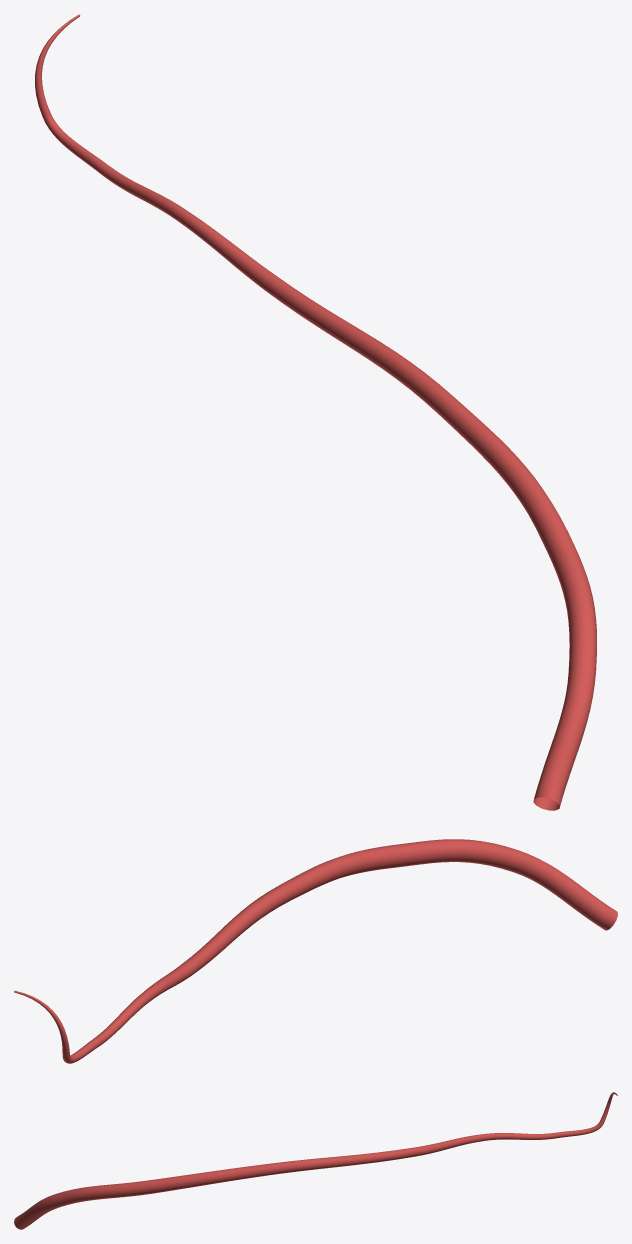
3 renders of one model, top to bottom at view 1: azimuth 30°, elevation 25°; view 2: azimuth 150°, elevation 25°; view 3: azimuth 270°, elevation 25°, orthographic. The views are drawn at different scales.
Parts seen in each view (by area): view 1: 左侧股深动脉; view 2: 左侧股深动脉; view 3: 左侧股深动脉.
Part boxes in pixels (x1=…): 左侧股深动脉: x1=35, y1=14, x2=596, y2=810; 左侧股深动脉: x1=14, y1=839, x2=617, y2=1063; 左侧股深动脉: x1=14, y1=1092, x2=617, y2=1229.
Size of the model in its own units: 0.0626 by 0.1155 by 0.3828.
